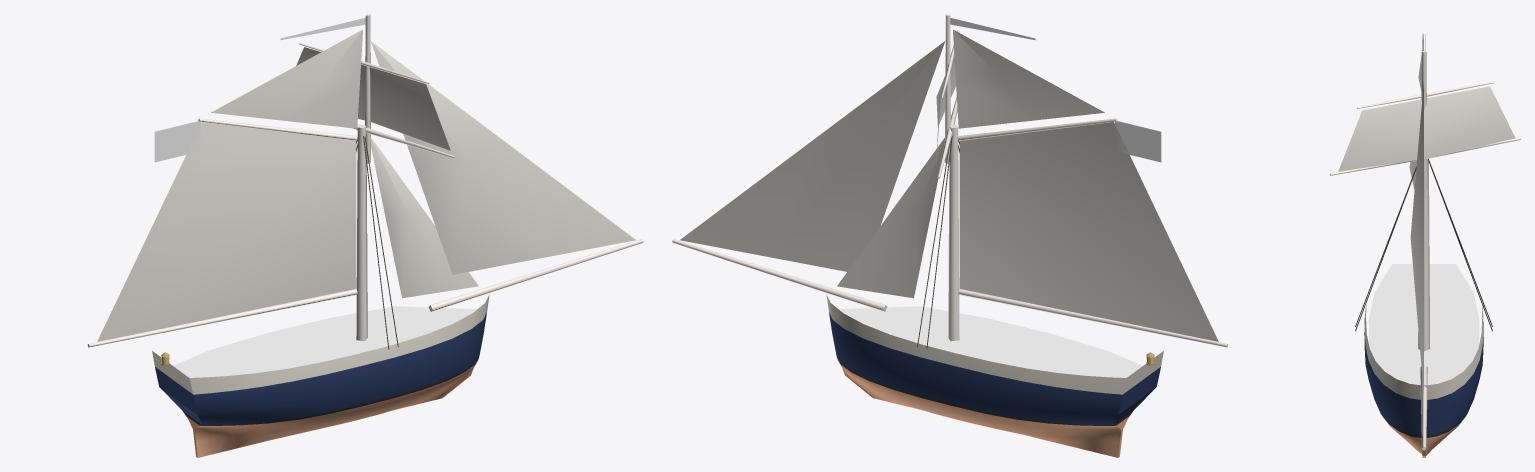
File: revenue_lod2.glb
3 renders of one model, left to right at view 1: azimuth 30°, elevation 25°; view 2: azimuth 150°, elevation 25°; view 3: azimuth 270°, elevation 25°, orthographic. The views are drawn at different scales.
Parts seen in each view (by area): view 1: SM_Revenue_LOD2; view 2: SM_Revenue_LOD2; view 3: SM_Revenue_LOD2.
Part boxes in pixels (bbox=[...]): SM_Revenue_LOD2: bbox=[87, 14, 643, 457]; SM_Revenue_LOD2: bbox=[672, 14, 1228, 457]; SM_Revenue_LOD2: bbox=[1330, 33, 1520, 457].
Bounding box in the file's own units: 29.89 × 18.2 × 8.45.
